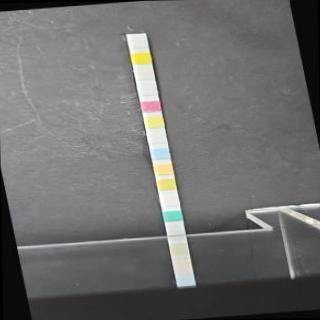mark: (144, 115, 164, 128), (150, 147, 170, 159), (140, 100, 160, 112), (138, 83, 158, 95), (130, 52, 150, 64), (163, 210, 182, 222), (157, 178, 176, 190), (128, 36, 147, 48), (134, 69, 154, 80), (154, 162, 172, 174), (148, 132, 166, 144), (160, 194, 178, 205)
